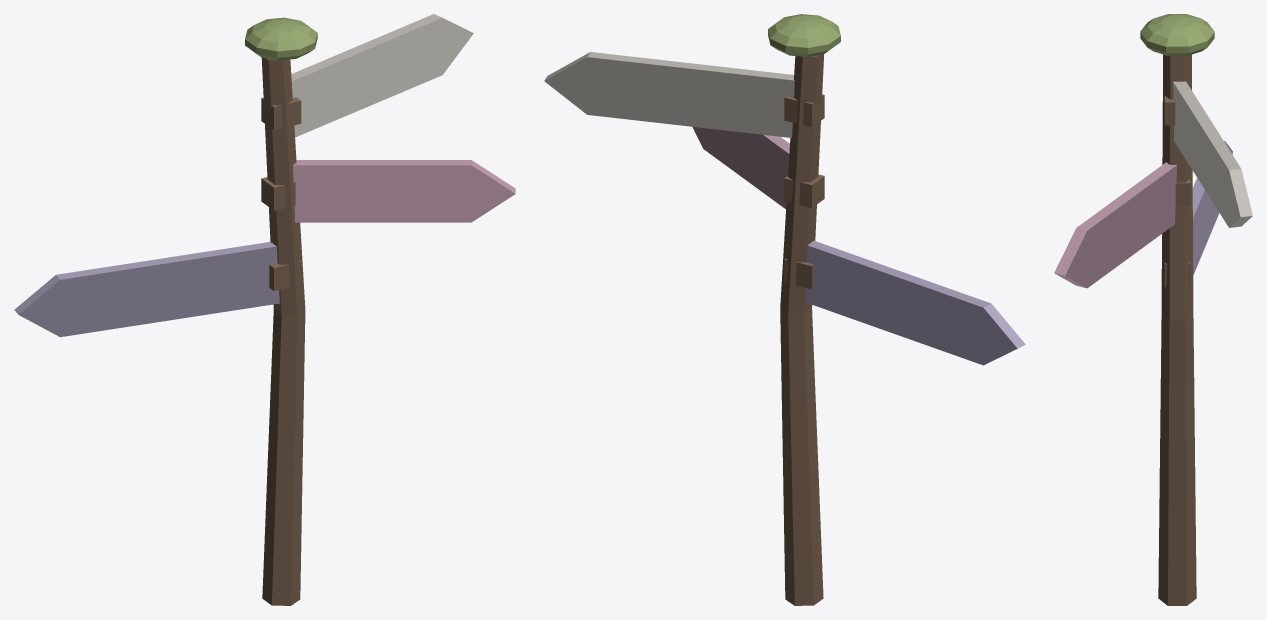
File: CrookedSignpost.fbx
The picture shows the model from 3 angles, left to right: view 1: azimuth 30°, elevation 25°; view 2: azimuth 150°, elevation 25°; view 3: azimuth 270°, elevation 25°; orthographic projection.
Parts seen in each view (by area): view 1: Prop_CrookedSignpost; view 2: Prop_CrookedSignpost; view 3: Prop_CrookedSignpost.
Boxes of the visible parts, box(x1,y1,x2,y2) form: Prop_CrookedSignpost: box(14, 14, 515, 605); Prop_CrookedSignpost: box(544, 14, 1025, 605); Prop_CrookedSignpost: box(1054, 14, 1252, 605).
Bounding box in the file's own units: 1.7 × 2 × 0.624.
